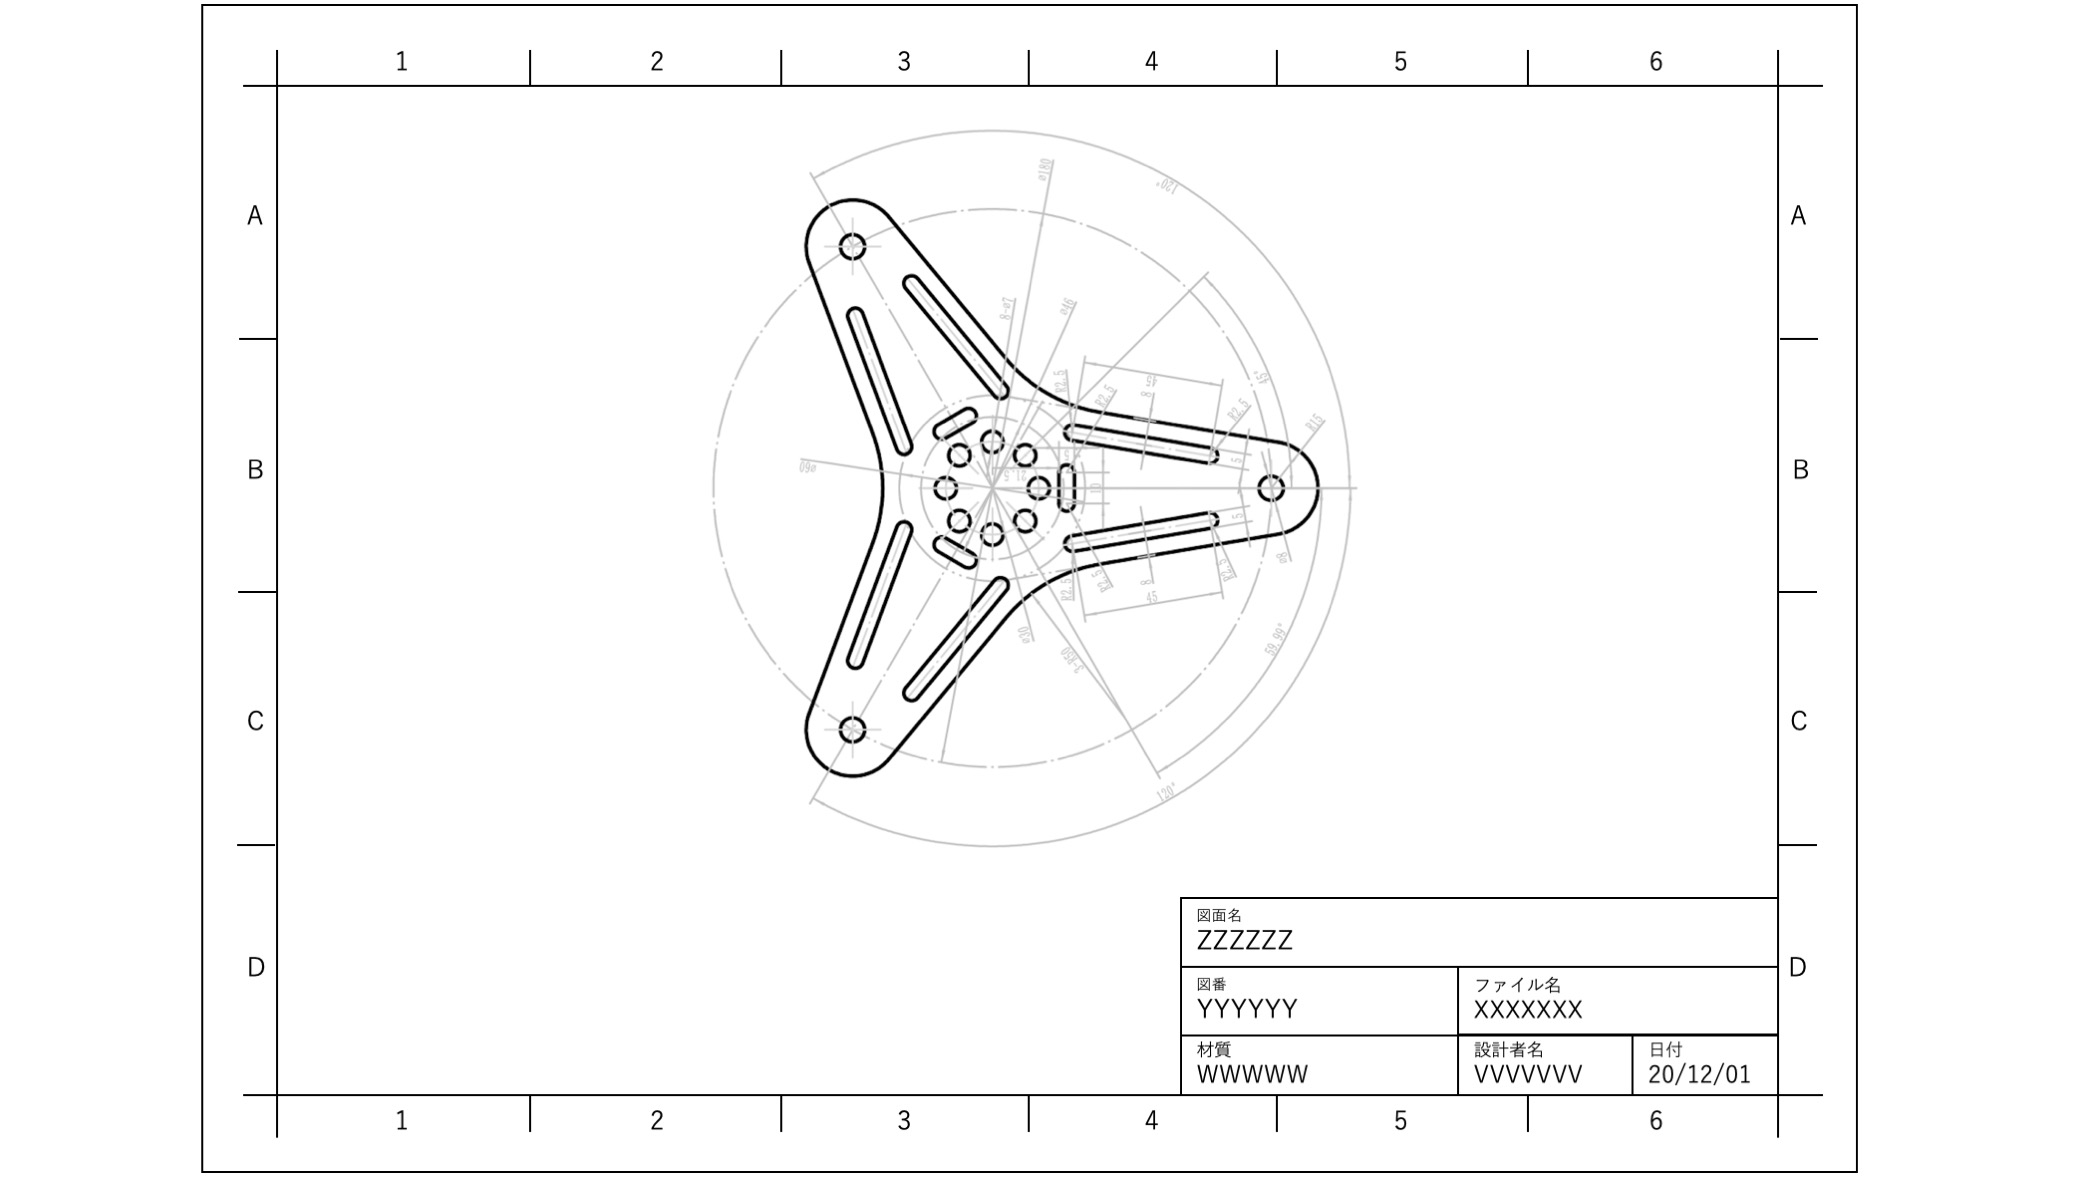circle: (834, 226, 873, 262), (834, 712, 873, 746), (1258, 464, 1287, 505), (972, 512, 1005, 547), (1007, 505, 1041, 535), (942, 505, 972, 539), (930, 469, 961, 500), (1011, 435, 1040, 469), (1025, 467, 1054, 500), (976, 424, 1007, 453), (945, 440, 974, 469)
round_rectangle: (899, 252, 1025, 402), (903, 570, 1012, 707), (837, 298, 914, 456), (841, 516, 914, 675), (1054, 505, 1223, 552), (1060, 425, 1227, 463), (927, 525, 979, 571), (929, 407, 987, 440), (1053, 460, 1077, 513)
